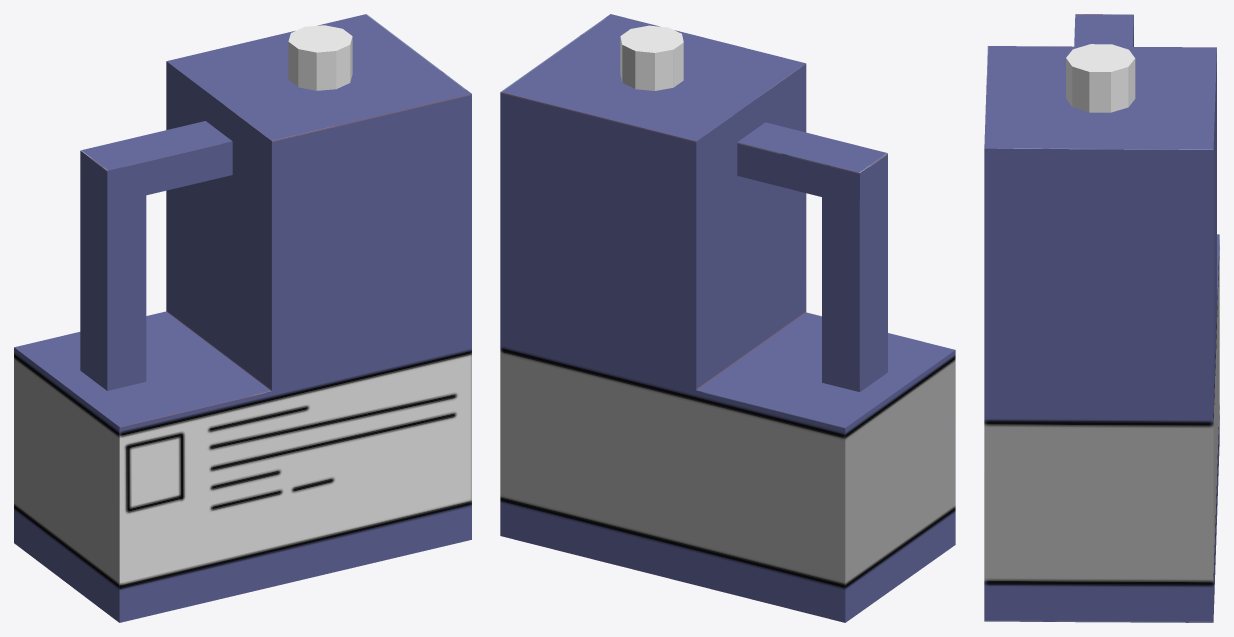
Rendered from prodotto 2.fbx.
3 renders of one model, left to right at view 1: azimuth 30°, elevation 25°; view 2: azimuth 150°, elevation 25°; view 3: azimuth 270°, elevation 25°, orthographic. The views are drawn at different scales.
Parts seen in each view (by area): view 1: prodotto_2; view 2: prodotto_2; view 3: prodotto_2.
Part boxes in pixels (x1,y1,x2,y2): prodotto_2: [14, 14, 471, 622]; prodotto_2: [500, 14, 955, 622]; prodotto_2: [984, 14, 1219, 622].
Bounding box in the file's own units: 0.0188 × 0.0247 × 0.0103.
1 material, 1 textured.
